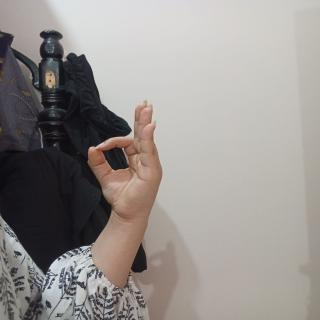Space: (77, 95, 168, 232)
